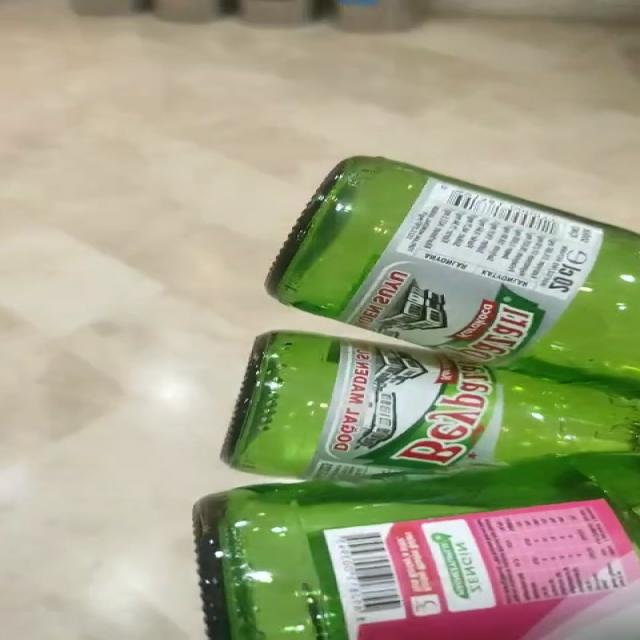glass: (193, 156, 640, 640)
